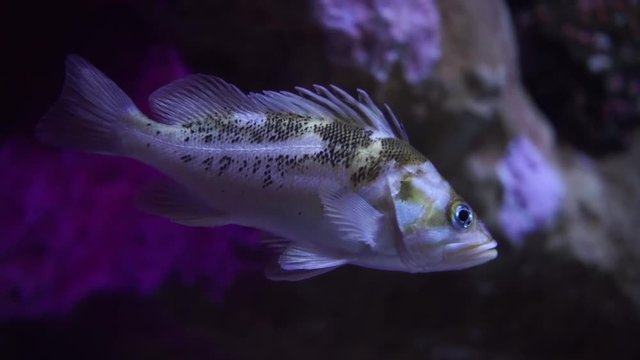Rock Fish: (33, 36, 511, 324)
